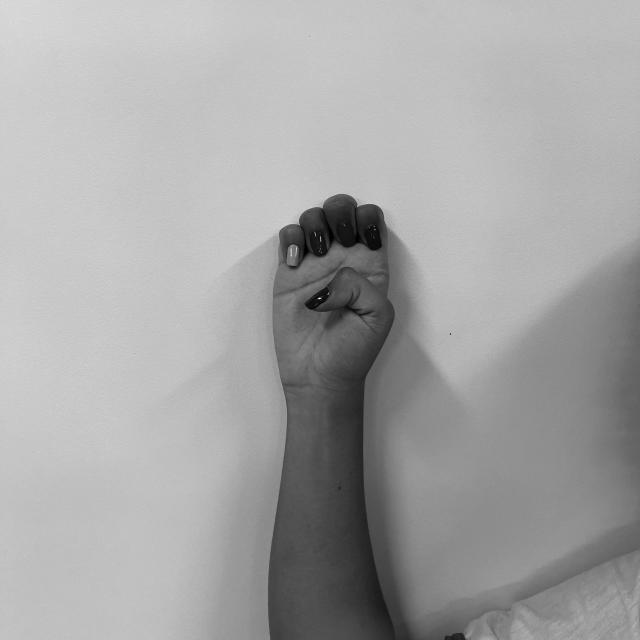Letra E: (267, 192, 399, 395)
